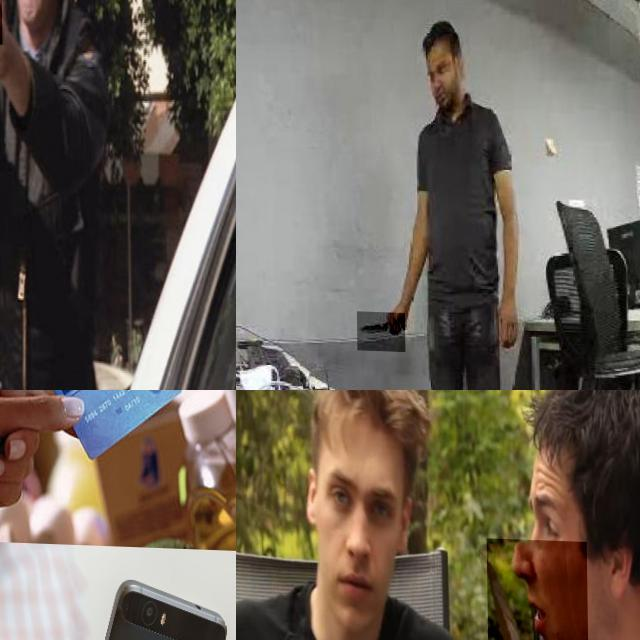-: (485, 536, 590, 640), (356, 310, 404, 350)
gun-knife-thesis - v11 Yolov5 augmented: (0, 0, 28, 57)
